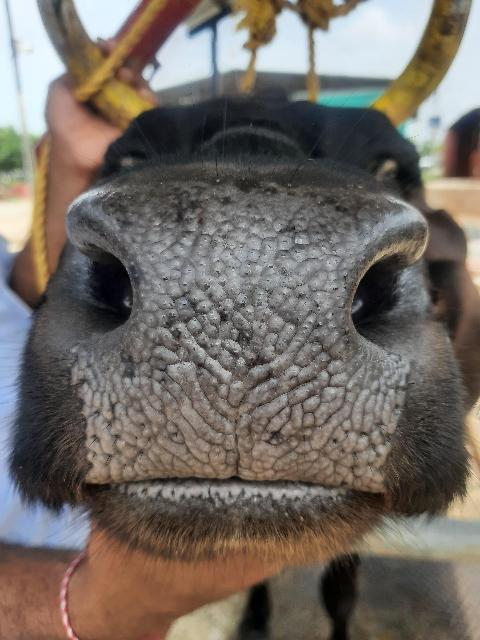Muzzle: (132, 191, 344, 475)
